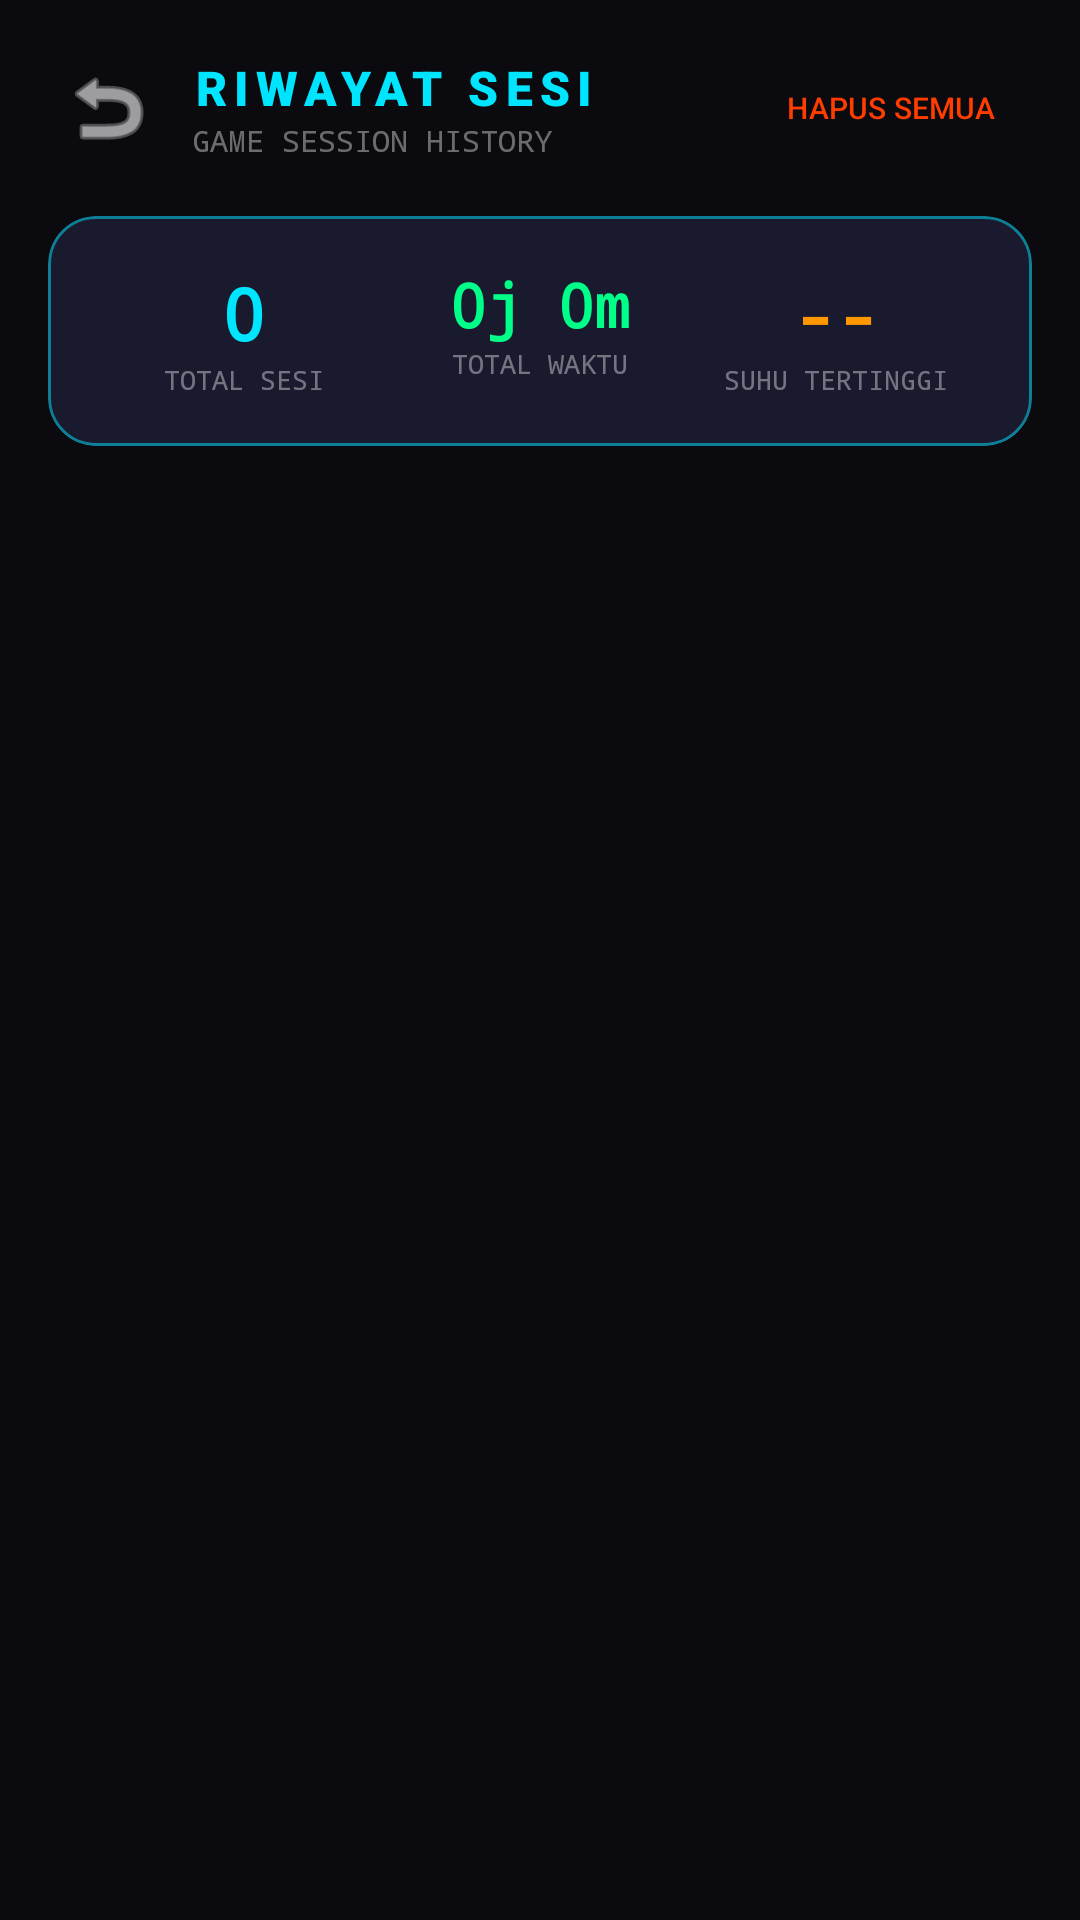

Locate icon controls on the screen. Image size 1080x1920, boxes as (x1, y1, x2, y2).
Kembali: (75, 77, 144, 140)
